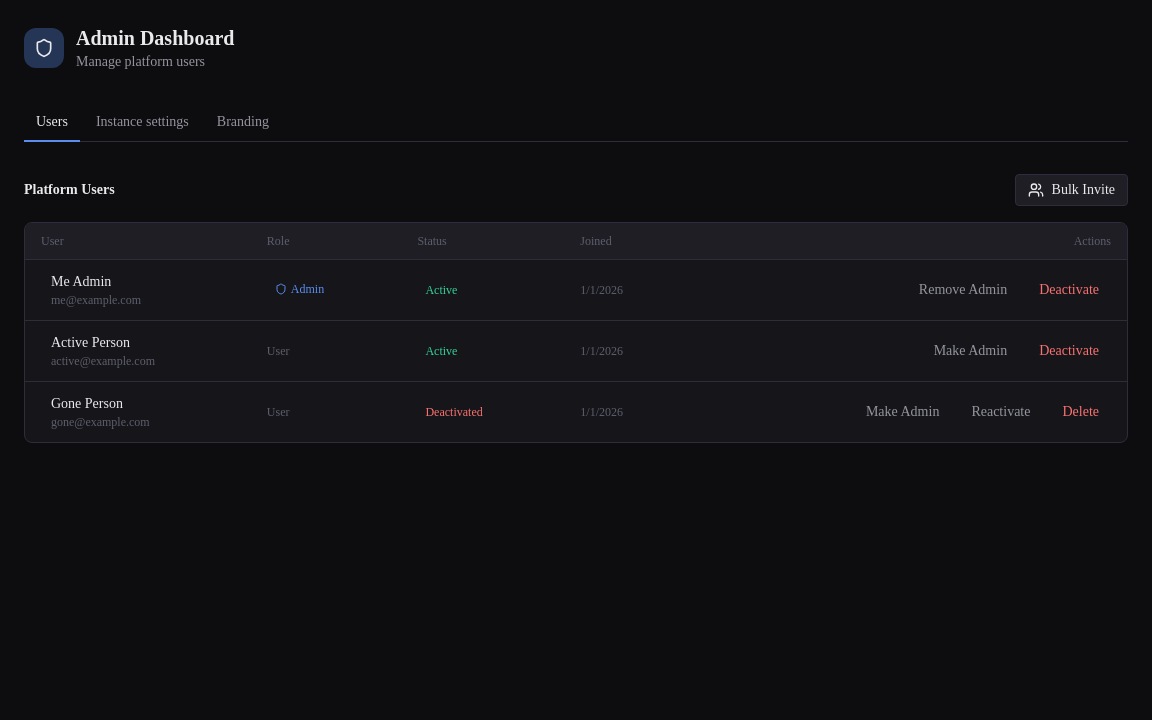
Test: Admin users: Delete › deletes the user and refreshes the list
Click the button "Delete" at {"x": 1081, "y": 412}, box [1050,396,1111,428]
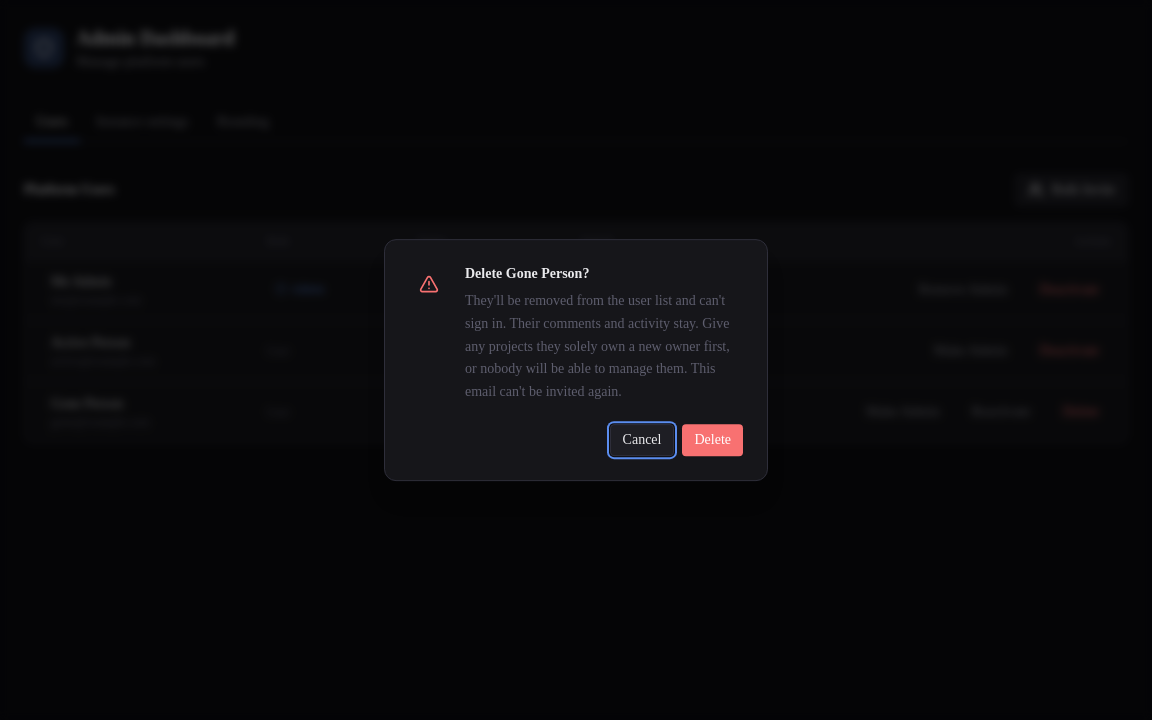
Click the button "Delete" at {"x": 713, "y": 440}, box [682,424,743,456]
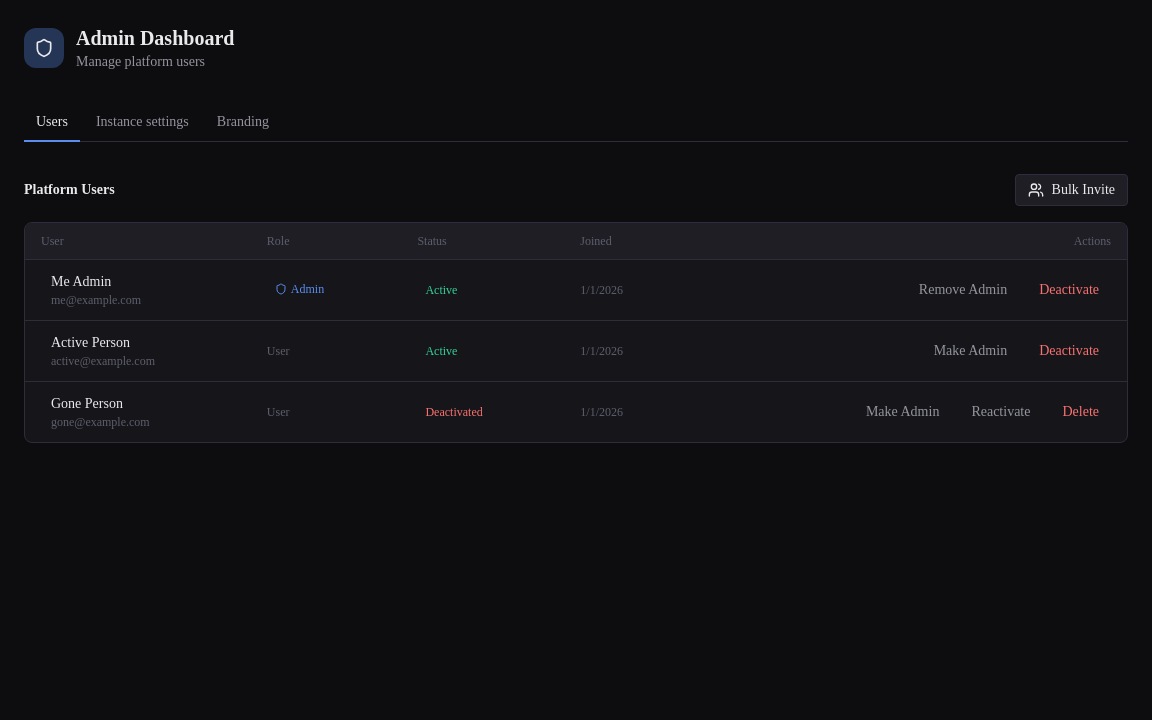
Check: the dialog is gone
